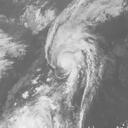cyclone: (48, 28, 89, 72)
